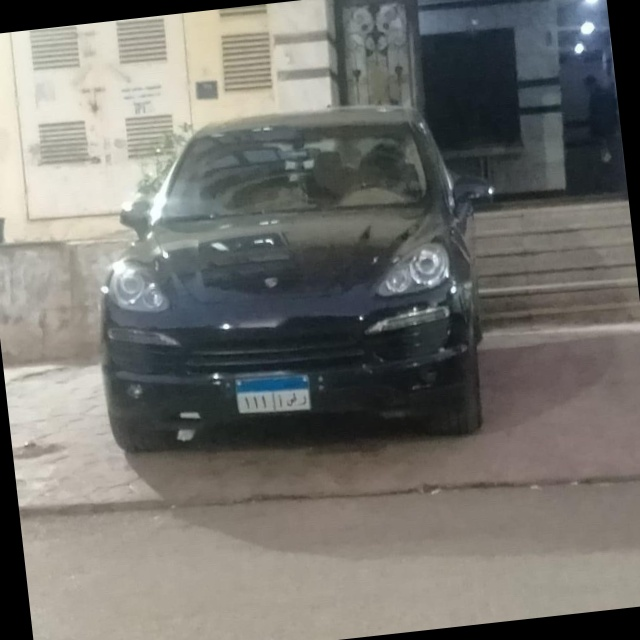License Plate: (233, 372, 313, 420)
